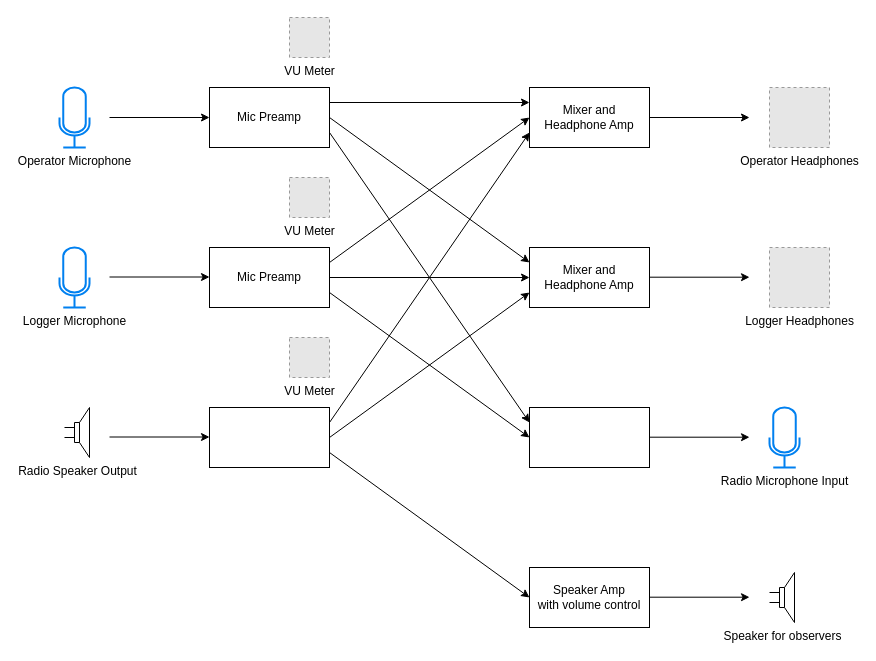
This 876x661 diagram has some shape labels left out. Grey dashed boxes stand in for pictures. The centre of each missing label's shape, as x and y in pixels:
Isolation and Buffering: point 269,437
Mixer, Pad to Mic Level, and Isolation: point 589,437
